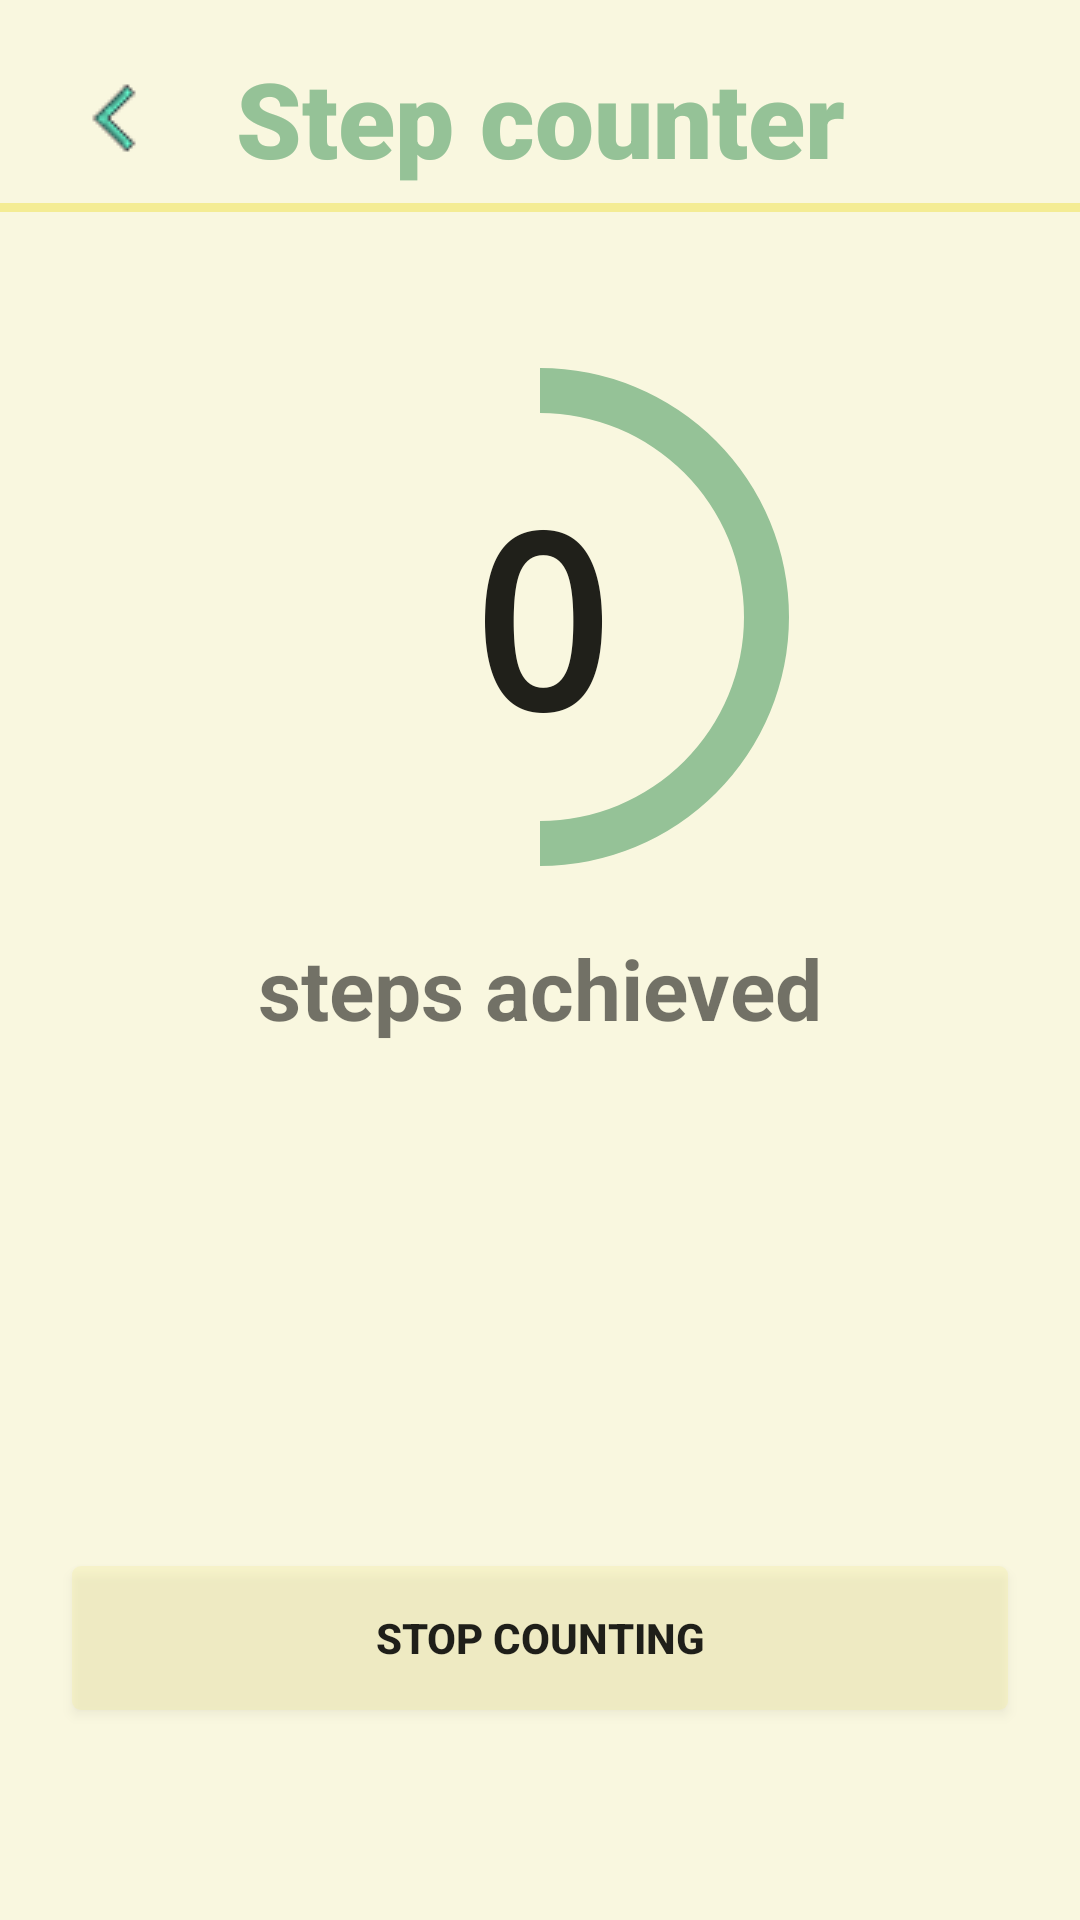

Icons on this 1080x1920 Android screen, each with the point to tap as [x,y]:
back: [114,118]
